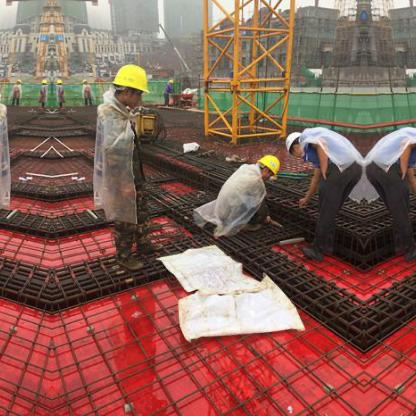Safety Helmet: (110, 60, 154, 105), (254, 152, 286, 188), (281, 128, 313, 158)
